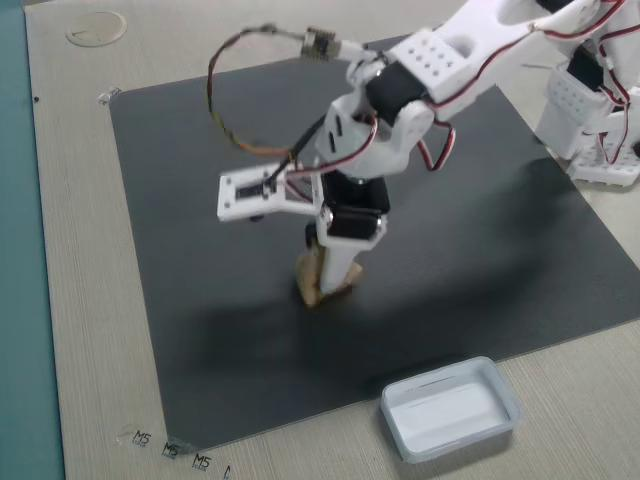objects: (233, 177, 404, 296)
